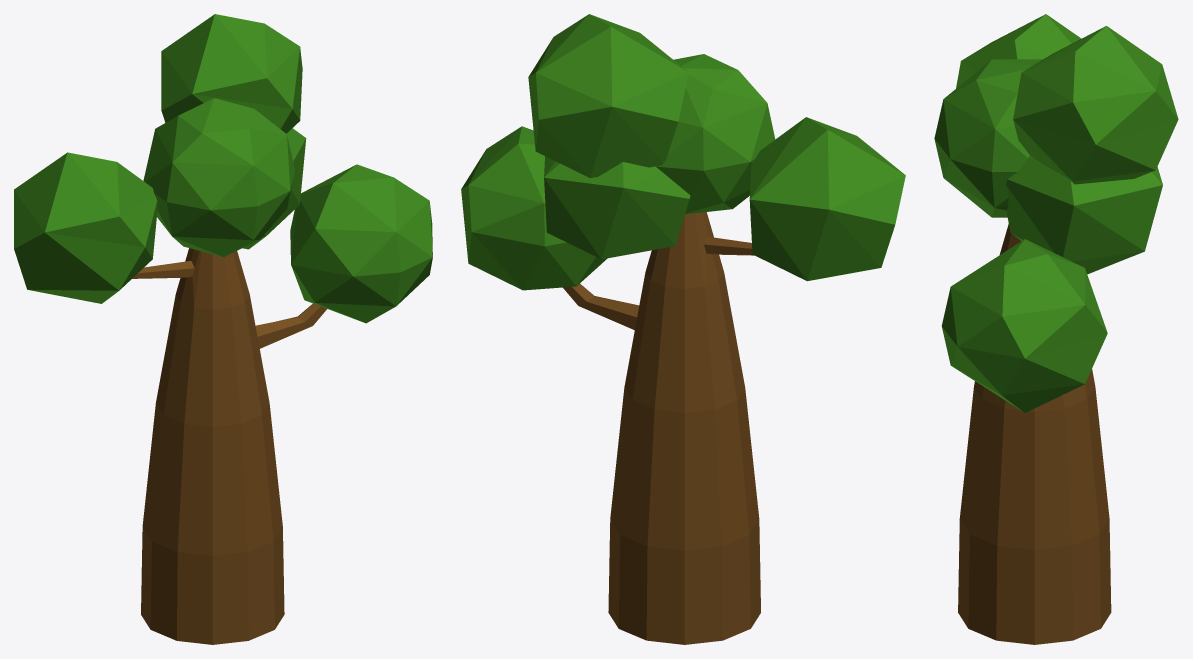
The model's file is Agac001.fbx.
3 renders of one model, left to right at view 1: azimuth 30°, elevation 25°; view 2: azimuth 150°, elevation 25°; view 3: azimuth 270°, elevation 25°, orthographic. The views are drawn at different scales.
Parts seen in each view (by area): view 1: Agac001, Icosphere.002, Icosphere.001, Icosphere, Icosphere.003, Icosphere.004; view 2: Agac001, Icosphere, Icosphere.003, Icosphere.001, Icosphere.002, Icosphere.004; view 3: Agac001, Icosphere.001, Icosphere.003, Icosphere.004, Icosphere.002, Icosphere.
Boxes of the visible parts, x1,y1,x2,y2 form: Agac001: (132,248,326,644); Icosphere.002: (143,98,295,257); Icosphere.001: (290,164,432,323); Icosphere: (14,152,157,303); Icosphere.003: (161,14,302,133); Icosphere.004: (242,128,306,249); Agac001: (563,212,760,644); Icosphere: (749,117,905,281); Icosphere.003: (528,14,688,178); Icosphere.001: (461,126,607,290); Icosphere.002: (655,54,775,214); Icosphere.004: (544,156,690,259); Agac001: (958,224,1111,644); Icosphere.001: (941,239,1107,412); Icosphere.003: (1013,26,1178,184); Icosphere.004: (1006,155,1162,274); Icosphere.002: (934,59,1042,217); Icosphere: (956,14,1081,88).
Bounding box in the file's own units: 1.54 × 0.7364 × 2.02.
